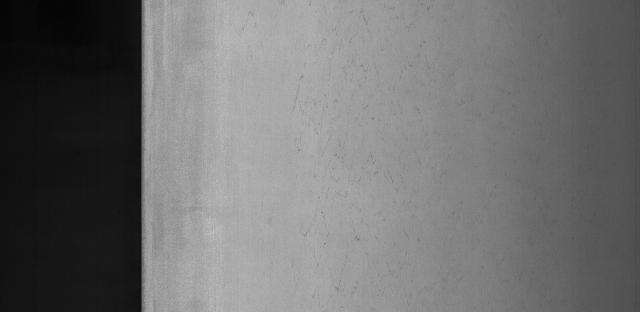silk_spot: (271, 20, 422, 221)
